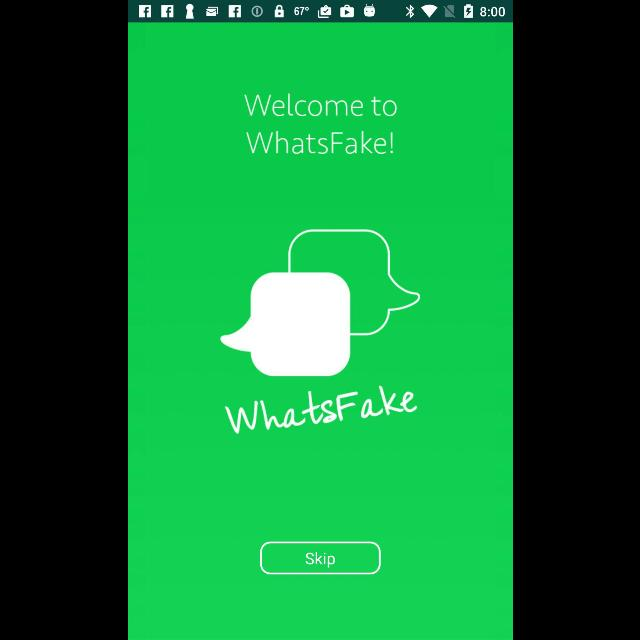image: (220, 230, 420, 376), (222, 386, 416, 434)
text: (242, 94, 396, 154)
textbutton: (259, 542, 381, 574)
uppertaskbar: (128, 1, 512, 23)
